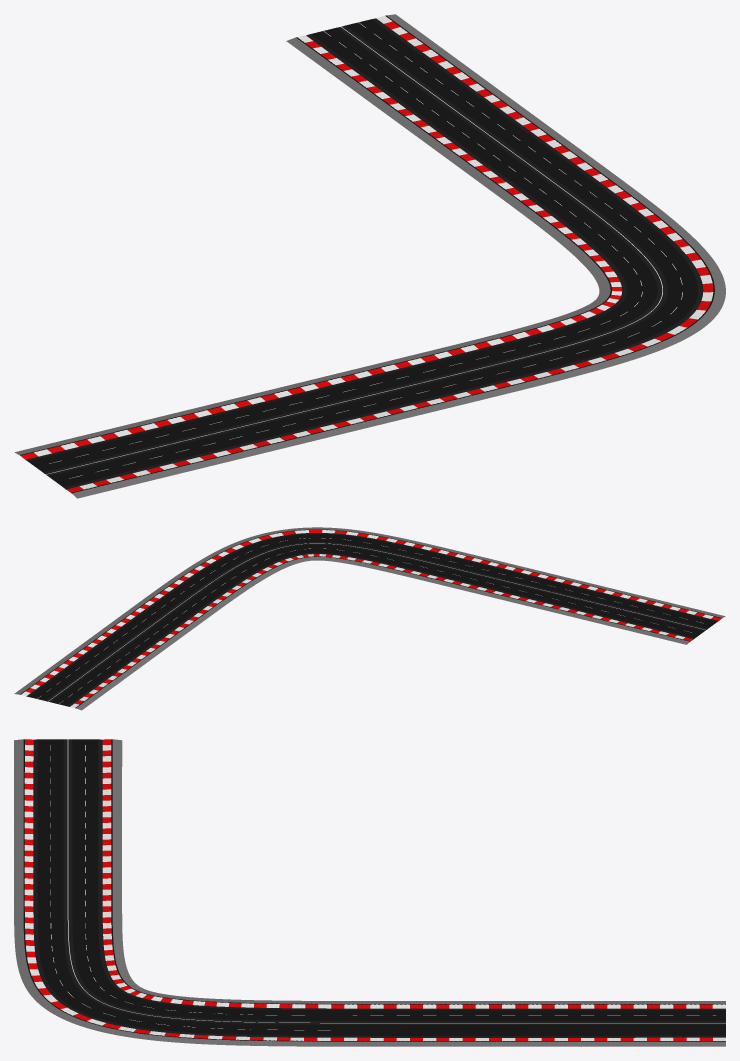
3 views of the same model, one above another, from view 1: azimuth 30°, elevation 25°; view 2: azimuth 150°, elevation 25°; view 3: azimuth 270°, elevation 25° (orthographic). The views are drawn at different scales.
Visible parts, largest first — view 1: Grid; view 2: Grid; view 3: Grid.
Part boxes in pixels (bbox=[...]): Grid: bbox=[14, 14, 725, 498]; Grid: bbox=[14, 527, 725, 710]; Grid: bbox=[14, 739, 725, 1046].
Size of the model in its own units: 168 by 0.31 by 165.
